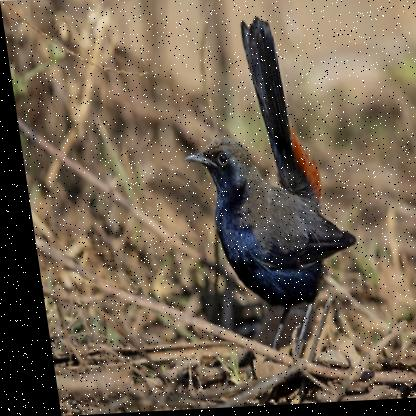Burung: (163, 16, 362, 367)
